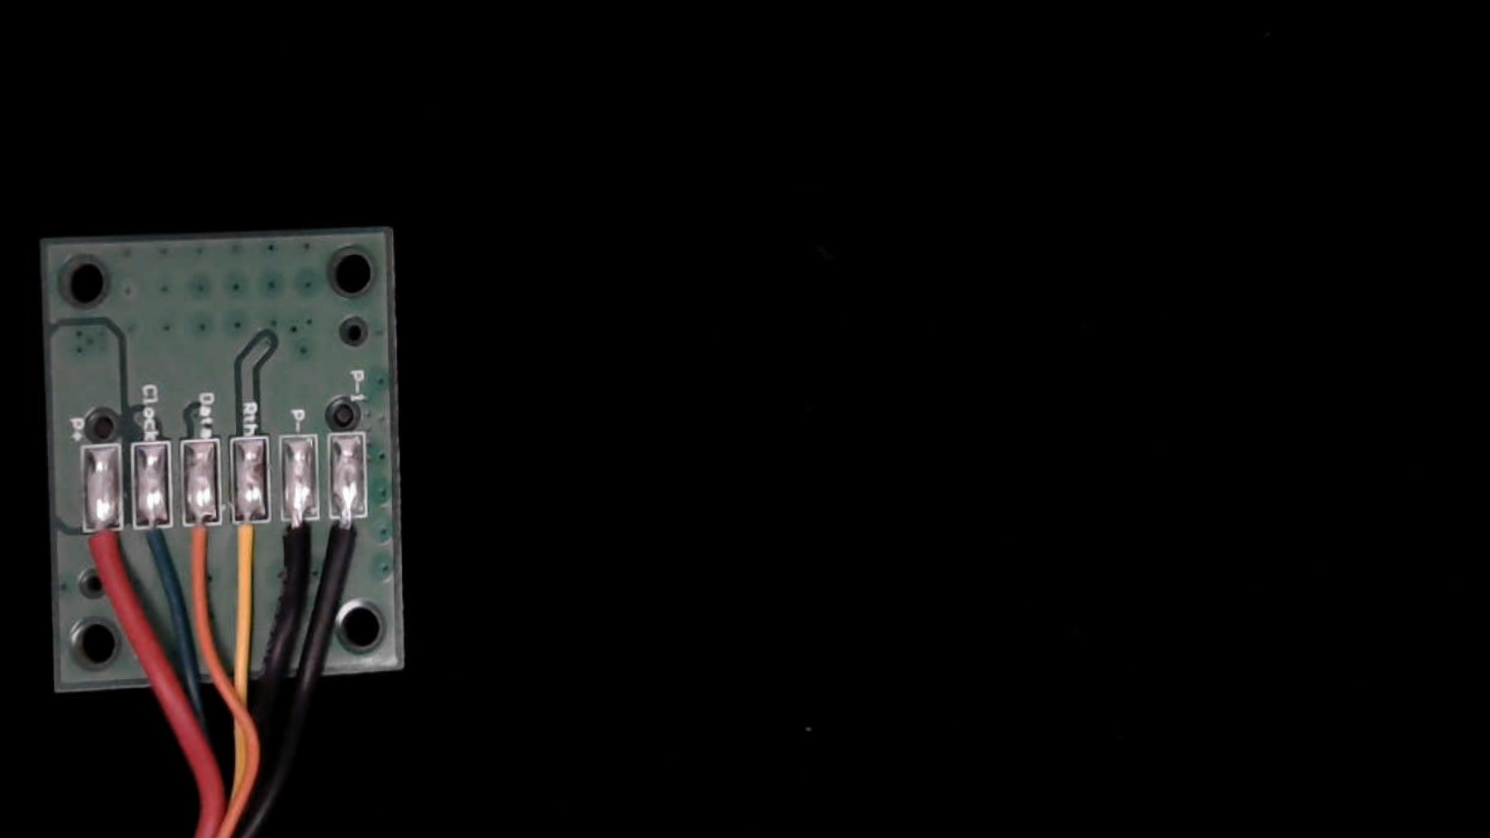Black: (278, 501, 317, 594)
Black1: (328, 499, 369, 590)
Green: (131, 505, 176, 601)
Orange: (183, 504, 225, 602)
Red: (81, 512, 126, 607)
Yellow: (227, 504, 271, 604)
